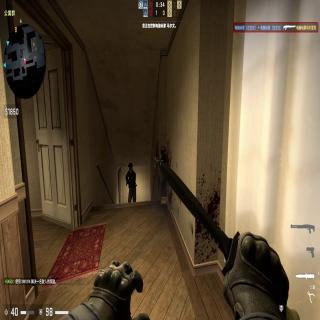T-Body: (125, 164, 136, 202)
T-Head: (128, 164, 133, 173)
